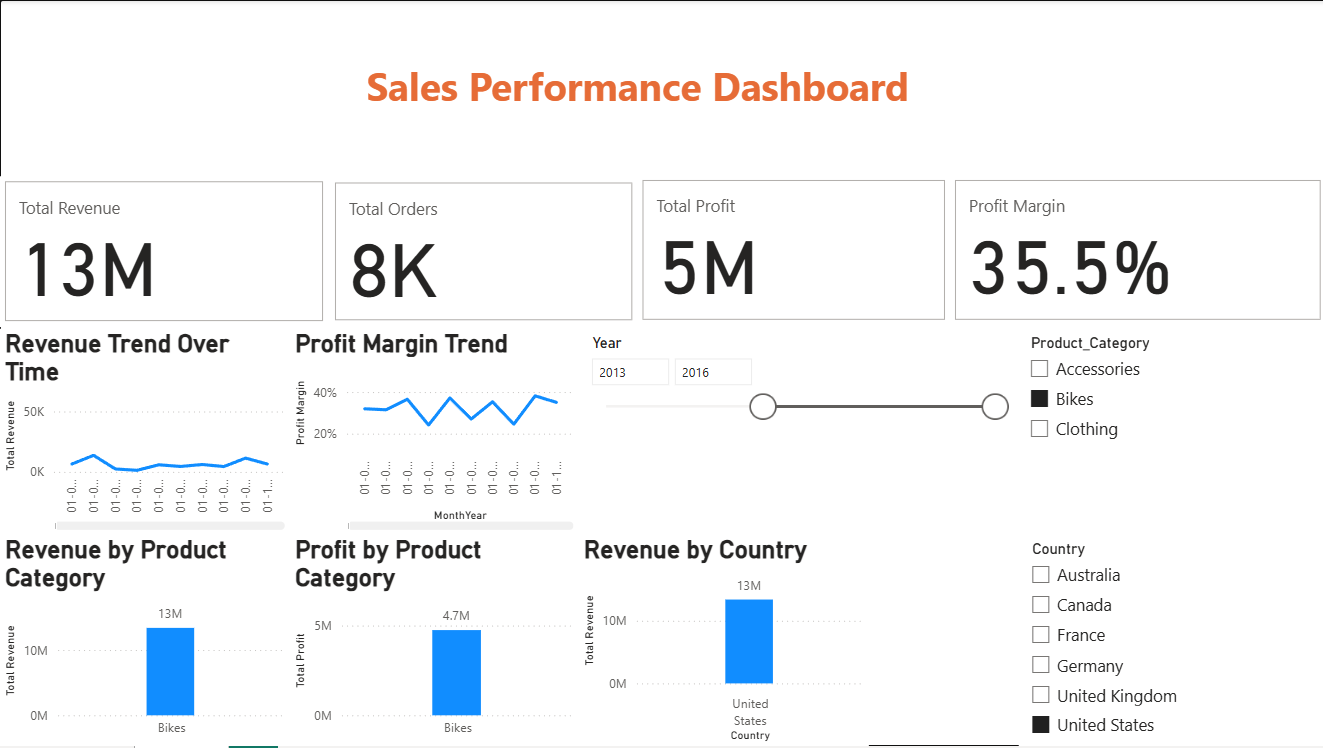

The dashboard page shown, as its layout file describes it:
{"tool":"powerbi","page":{"name":"Page 1","canvas":[1280,720],"ordinal":0},"visuals":[{"type":"cardVisual","fields":{"Data":["sales_data (1).Total Revenue"]},"box":[0,170,317.9,145.5],"z":0},{"type":"cardVisual","fields":{"Data":["sales_data (1).Total Orders"]},"box":[317.9,171.2,297.1,143.1],"z":1000},{"type":"cardVisual","fields":{"Data":["sales_data (1).Total Profit"]},"box":[615.1,168.8,302,145.5],"z":2000},{"type":"cardVisual","fields":{"Data":["sales_data (1).Profit Margin"]},"box":[917.1,168.8,363.2,145.5],"z":3000},{"type":"lineChart","title":"Revenue Trend Over Time","fields":{"Y":["sales_data (1).Total Revenue"],"Category":["sales_data (1).MonthYear"]},"box":[0,316.7,280,199.3],"z":4000},{"type":"clusteredColumnChart","title":"Revenue by Product Category","fields":{"Category":["sales_data (1).Product_Category"],"Y":["sales_data (1).Total Revenue"]},"box":[0,516,280,204.2],"z":5000},{"type":"clusteredColumnChart","title":"Revenue by Country","fields":{"Category":["sales_data (1).Country"],"Y":["sales_data (1).Total Revenue"]},"box":[558.8,516,280,204.2],"z":6000},{"type":"slicer","fields":{"Values":["sales_data (1).Year"]},"box":[558.8,316.7,423.1,199.3],"z":7000},{"type":"slicer","fields":{"Values":["sales_data (1).Product_Category"]},"box":[981.9,316.7,297.1,199.3],"z":8000},{"type":"slicer","fields":{"Values":["sales_data (1).Country"]},"box":[983.2,516,297.1,204.2],"z":9000},{"type":"clusteredColumnChart","title":"Profit by Product Category","fields":{"Category":["sales_data (1).Product_Category"],"Y":["sales_data (1).Total Profit"]},"box":[280,516,278.8,204.2],"z":10000},{"type":"lineChart","title":"Profit Margin Trend","fields":{"Category":["sales_data (1).MonthYear"],"Y":["sales_data (1).Profit Margin"]},"box":[280,316.7,278.8,199.3],"z":11000},{"type":"textbox","box":[331.4,52.6,567.4,77],"z":11001}]}

Visuals, with their boxes in screenshot pixels (x1, y1, x2, y2), scaled from the page's 1280x720 canvas onto the 1323x748 screenshot:
cardVisual - sales_data (1).Total Revenue: {"left": 0, "top": 177, "right": 329, "bottom": 328}
cardVisual - sales_data (1).Total Orders: {"left": 329, "top": 178, "right": 636, "bottom": 327}
cardVisual - sales_data (1).Total Profit: {"left": 636, "top": 175, "right": 948, "bottom": 327}
cardVisual - sales_data (1).Profit Margin: {"left": 948, "top": 175, "right": 1322, "bottom": 327}
"Revenue Trend Over Time" lineChart: {"left": 0, "top": 329, "right": 289, "bottom": 536}
"Revenue by Product Category" clusteredColumnChart: {"left": 0, "top": 536, "right": 289, "bottom": 747}
"Revenue by Country" clusteredColumnChart: {"left": 578, "top": 536, "right": 867, "bottom": 747}
slicer - sales_data (1).Year: {"left": 578, "top": 329, "right": 1015, "bottom": 536}
slicer - sales_data (1).Product_Category: {"left": 1015, "top": 329, "right": 1322, "bottom": 536}
slicer - sales_data (1).Country: {"left": 1016, "top": 536, "right": 1322, "bottom": 747}
"Profit by Product Category" clusteredColumnChart: {"left": 289, "top": 536, "right": 578, "bottom": 747}
"Profit Margin Trend" lineChart: {"left": 289, "top": 329, "right": 578, "bottom": 536}
textbox: {"left": 343, "top": 55, "right": 929, "bottom": 135}
